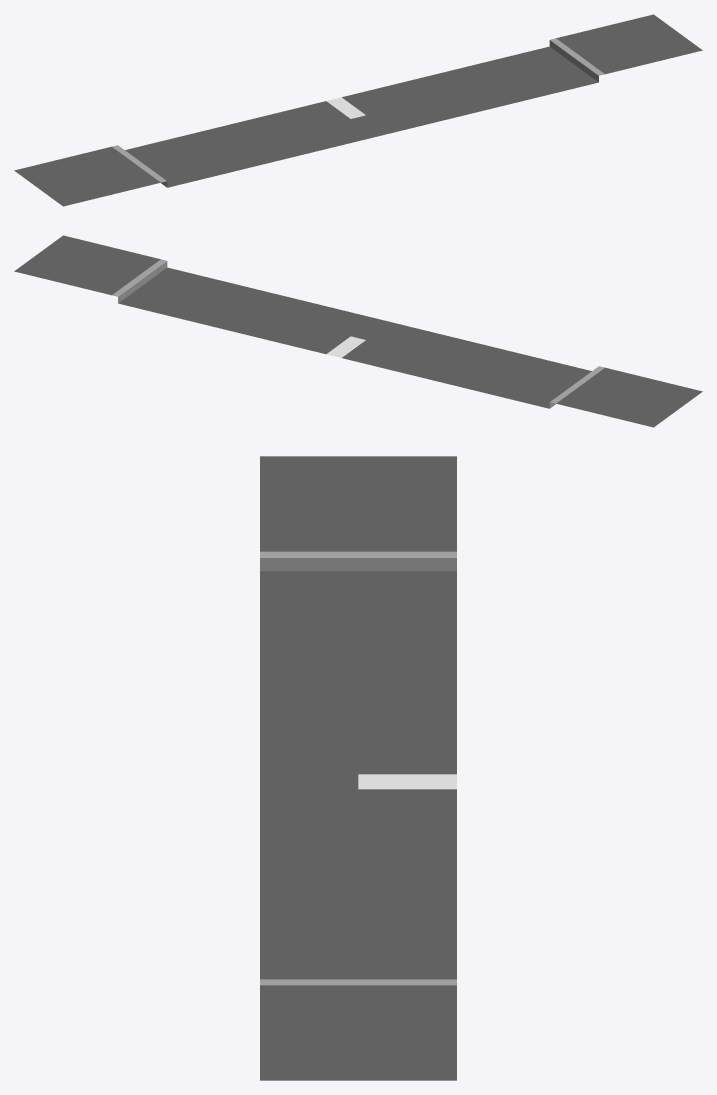
Rendered from street1.fbx.
The picture shows the model from 3 angles, top to bottom: view 1: azimuth 30°, elevation 25°; view 2: azimuth 150°, elevation 25°; view 3: azimuth 270°, elevation 25°; orthographic projection. The views are drawn at different scales.
Visible parts, largest first — view 1: Street-2x15; view 2: Street-2x15; view 3: Street-2x15.
Part boxes in pixels (x1,y1,x2,y2): Street-2x15: [14, 14, 702, 206]; Street-2x15: [14, 235, 702, 427]; Street-2x15: [260, 456, 456, 1080].
Size of the model in its own units: 1500 by 15 by 200.
